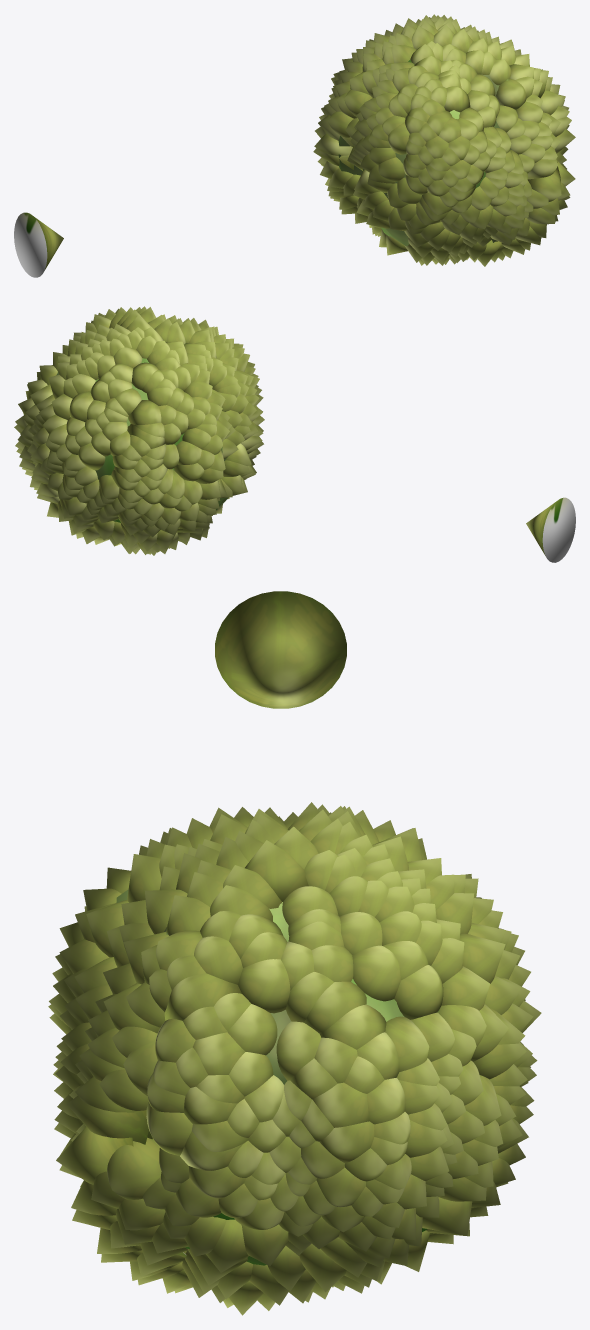
Rendered from saurieng.glb.
The picture shows the model from 3 angles, top to bottom: view 1: azimuth 30°, elevation 25°; view 2: azimuth 150°, elevation 25°; view 3: azimuth 270°, elevation 25°; orthographic projection. The views are drawn at different scales.
Parts seen in each view (by area): view 1: Cone (×26), Sphere; view 2: Cone (×20), Sphere; view 3: Cone (×83), Sphere.
Boxes of the visible parts, x1,y1,x2,y2 form: Cone (×26): (14, 25, 562, 277); Sphere: (338, 60, 511, 245); Cone (×20): (51, 347, 575, 562); Sphere: (56, 343, 228, 522); Cone (×83): (56, 591, 526, 1292); Sphere: (116, 889, 439, 1265).
Bounding box in the file's own units: 6.38 × 2.68 × 2.61.
2 materials, 2 textured.
